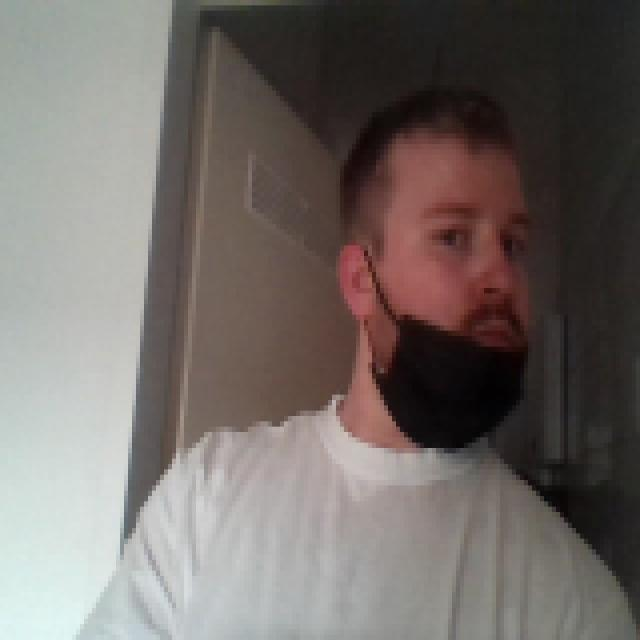hairnet: (324, 224, 540, 459)
